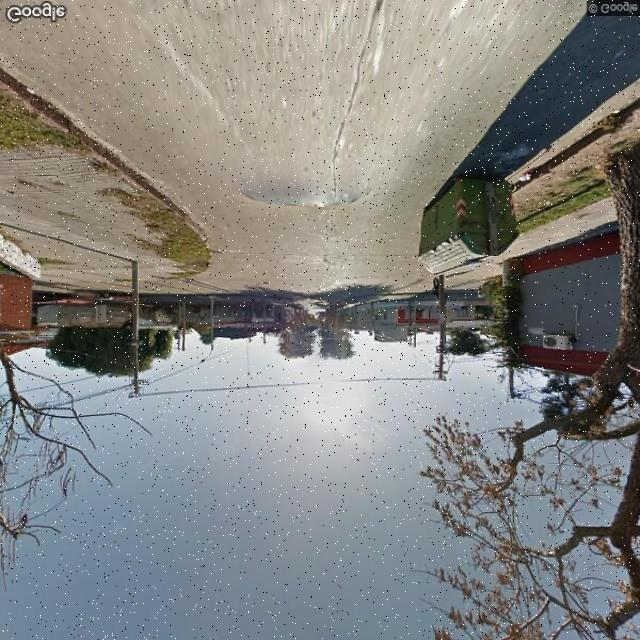garbage container: (414, 149, 535, 292)
